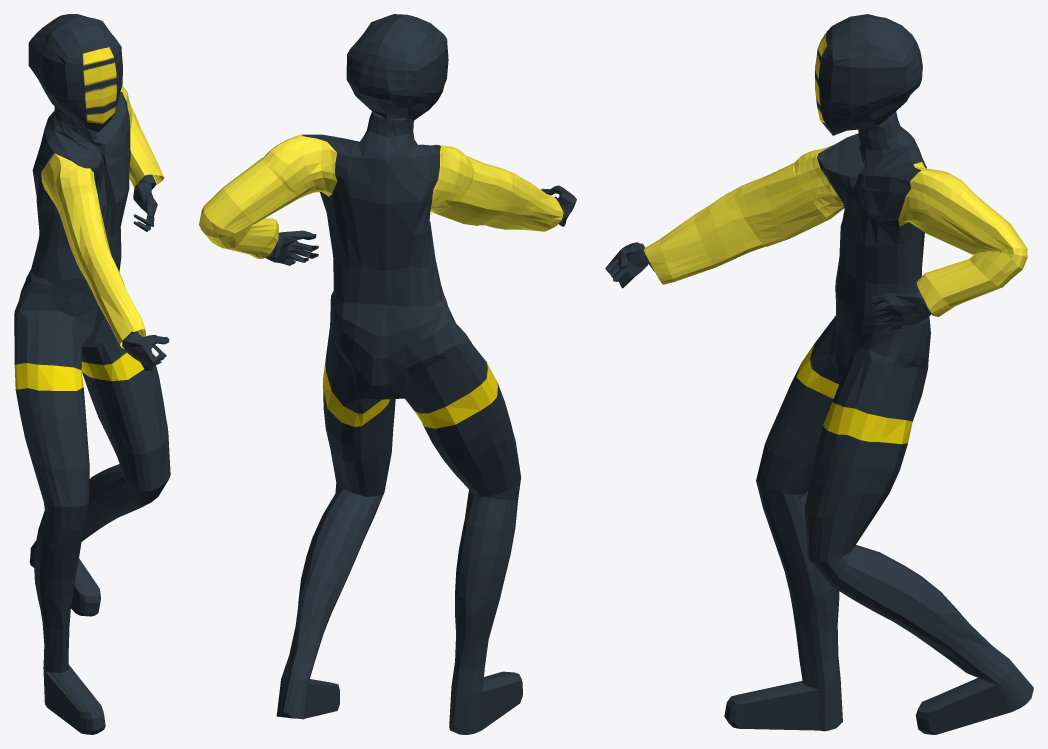
File: Sentry_WF_000008.obj
The picture shows the model from 3 angles, left to right: view 1: azimuth 30°, elevation 25°; view 2: azimuth 150°, elevation 25°; view 3: azimuth 270°, elevation 25°; orthographic projection. The views are drawn at different scales.
Visible parts, largest first — view 1: Cube; view 2: Cube; view 3: Cube.
Boxes of the visible parts, x1,y1,x2,y2 form: Cube: [14, 14, 170, 734]; Cube: [199, 14, 576, 734]; Cube: [605, 14, 1033, 734].
Bounding box in the file's own units: 1.17 × 3.78 × 2.01.
